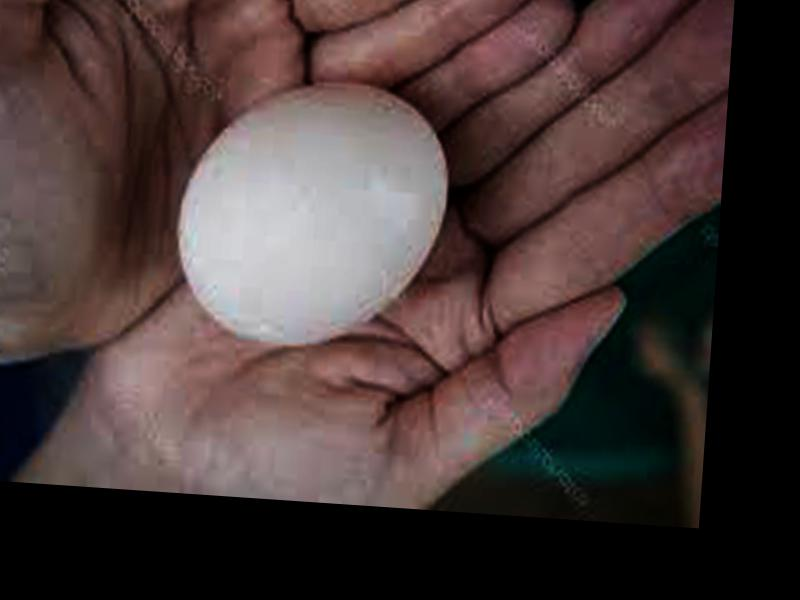Eggs: (173, 79, 454, 349)
